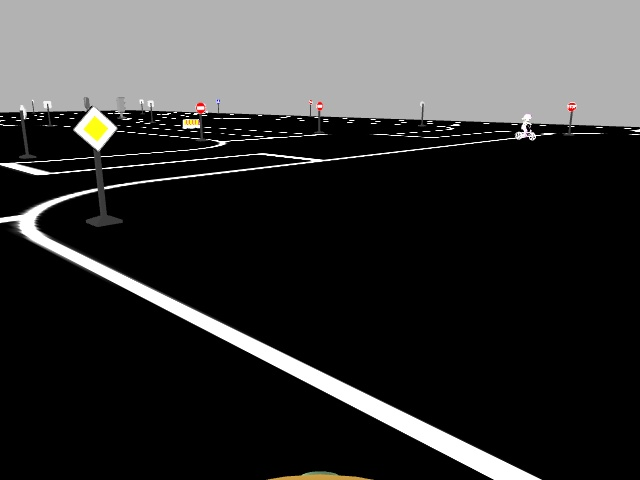ClosedRoadStand: (179, 118, 203, 129)
NoEntry: (193, 101, 205, 114), (312, 99, 323, 110)
Priority: (68, 106, 118, 150)
Stop: (564, 101, 576, 111)
